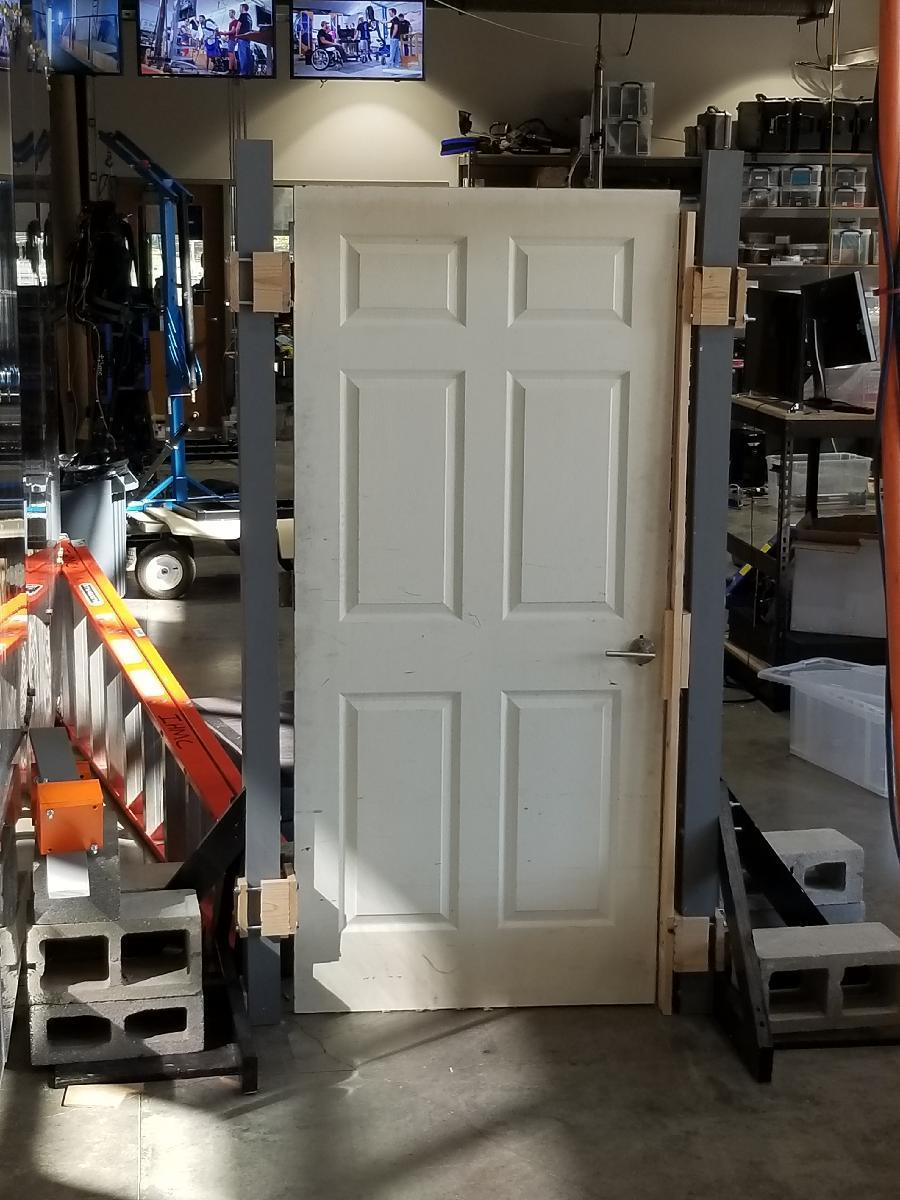door: (293, 184, 680, 1015)
handle: (602, 633, 664, 671)
